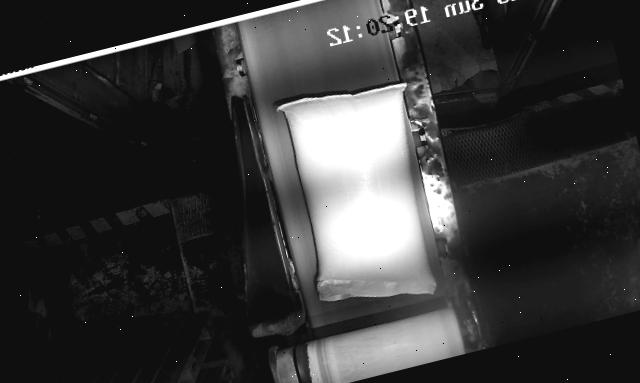bag: (269, 73, 456, 321)
